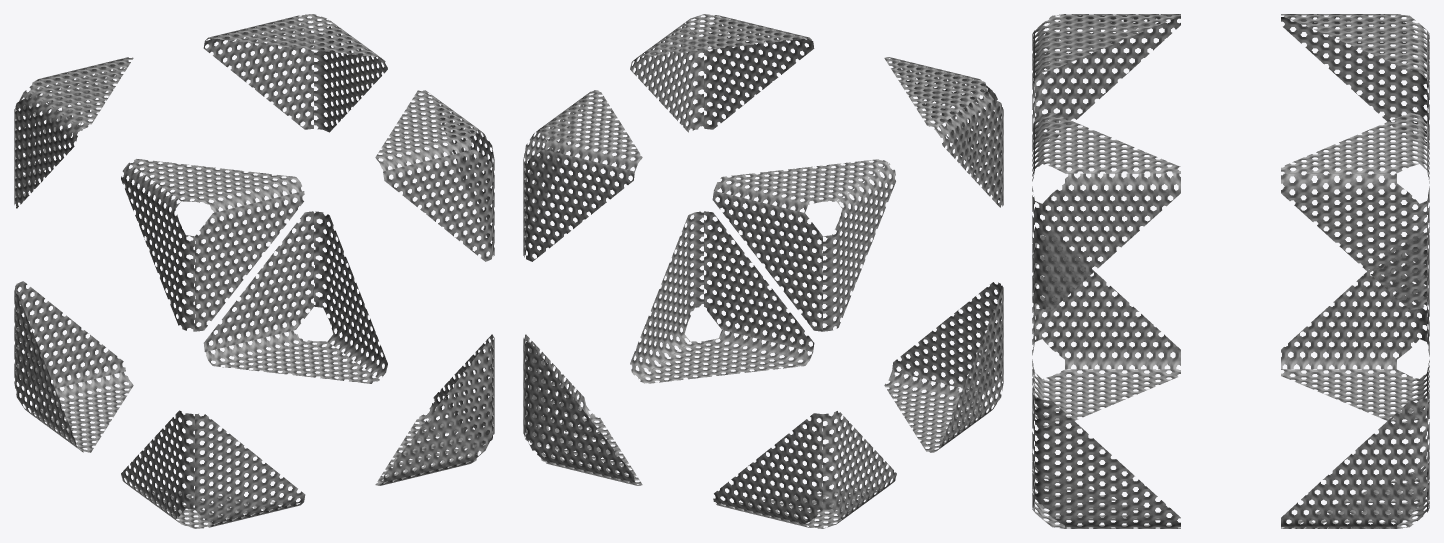
File: friendnet_bara.fbx
3 renders of one model, left to right at view 1: azimuth 30°, elevation 25°; view 2: azimuth 150°, elevation 25°; view 3: azimuth 270°, elevation 25°, orthographic. The views are drawn at different scales.
Visible parts, largest first — view 1: polySurface4, polySurface3, polySurface10, polySurface6, polySurface9, polySurface5, polySurface7, polySurface8; view 2: polySurface8, polySurface7, polySurface9, polySurface5, polySurface10, polySurface6, polySurface3, polySurface4; view 3: polySurface6, polySurface5, polySurface10, polySurface9, polySurface3, polySurface7, polySurface4, polySurface8.
Part boxes in pixels (box(x1,y1,x2,y2)): polySurface4: box(121, 159, 304, 331); polySurface3: box(203, 211, 387, 383); polySurface10: box(121, 410, 305, 528); polySurface6: box(203, 14, 387, 132); polySurface9: box(14, 281, 133, 452); polySurface5: box(375, 90, 494, 261); polySurface7: box(375, 334, 494, 485); polySurface8: box(14, 57, 133, 208); polySurface8: box(712, 159, 895, 331); polySurface7: box(630, 211, 814, 383); polySurface9: box(713, 411, 896, 528); polySurface5: box(630, 14, 814, 132); polySurface10: box(884, 282, 1003, 452); polySurface6: box(523, 90, 642, 261); polySurface3: box(523, 334, 642, 485); polySurface4: box(884, 57, 1003, 207); polySurface6: box(1281, 112, 1429, 309); polySurface5: box(1032, 112, 1180, 309); polySurface10: box(1032, 235, 1180, 427); polySurface9: box(1281, 236, 1429, 430); polySurface3: box(1281, 393, 1429, 528); polySurface7: box(1032, 393, 1180, 528); polySurface4: box(1032, 14, 1180, 149); polySurface8: box(1281, 14, 1429, 149).
Size of the model in its own units: 0.9557 by 0.9557 by 0.9557.
